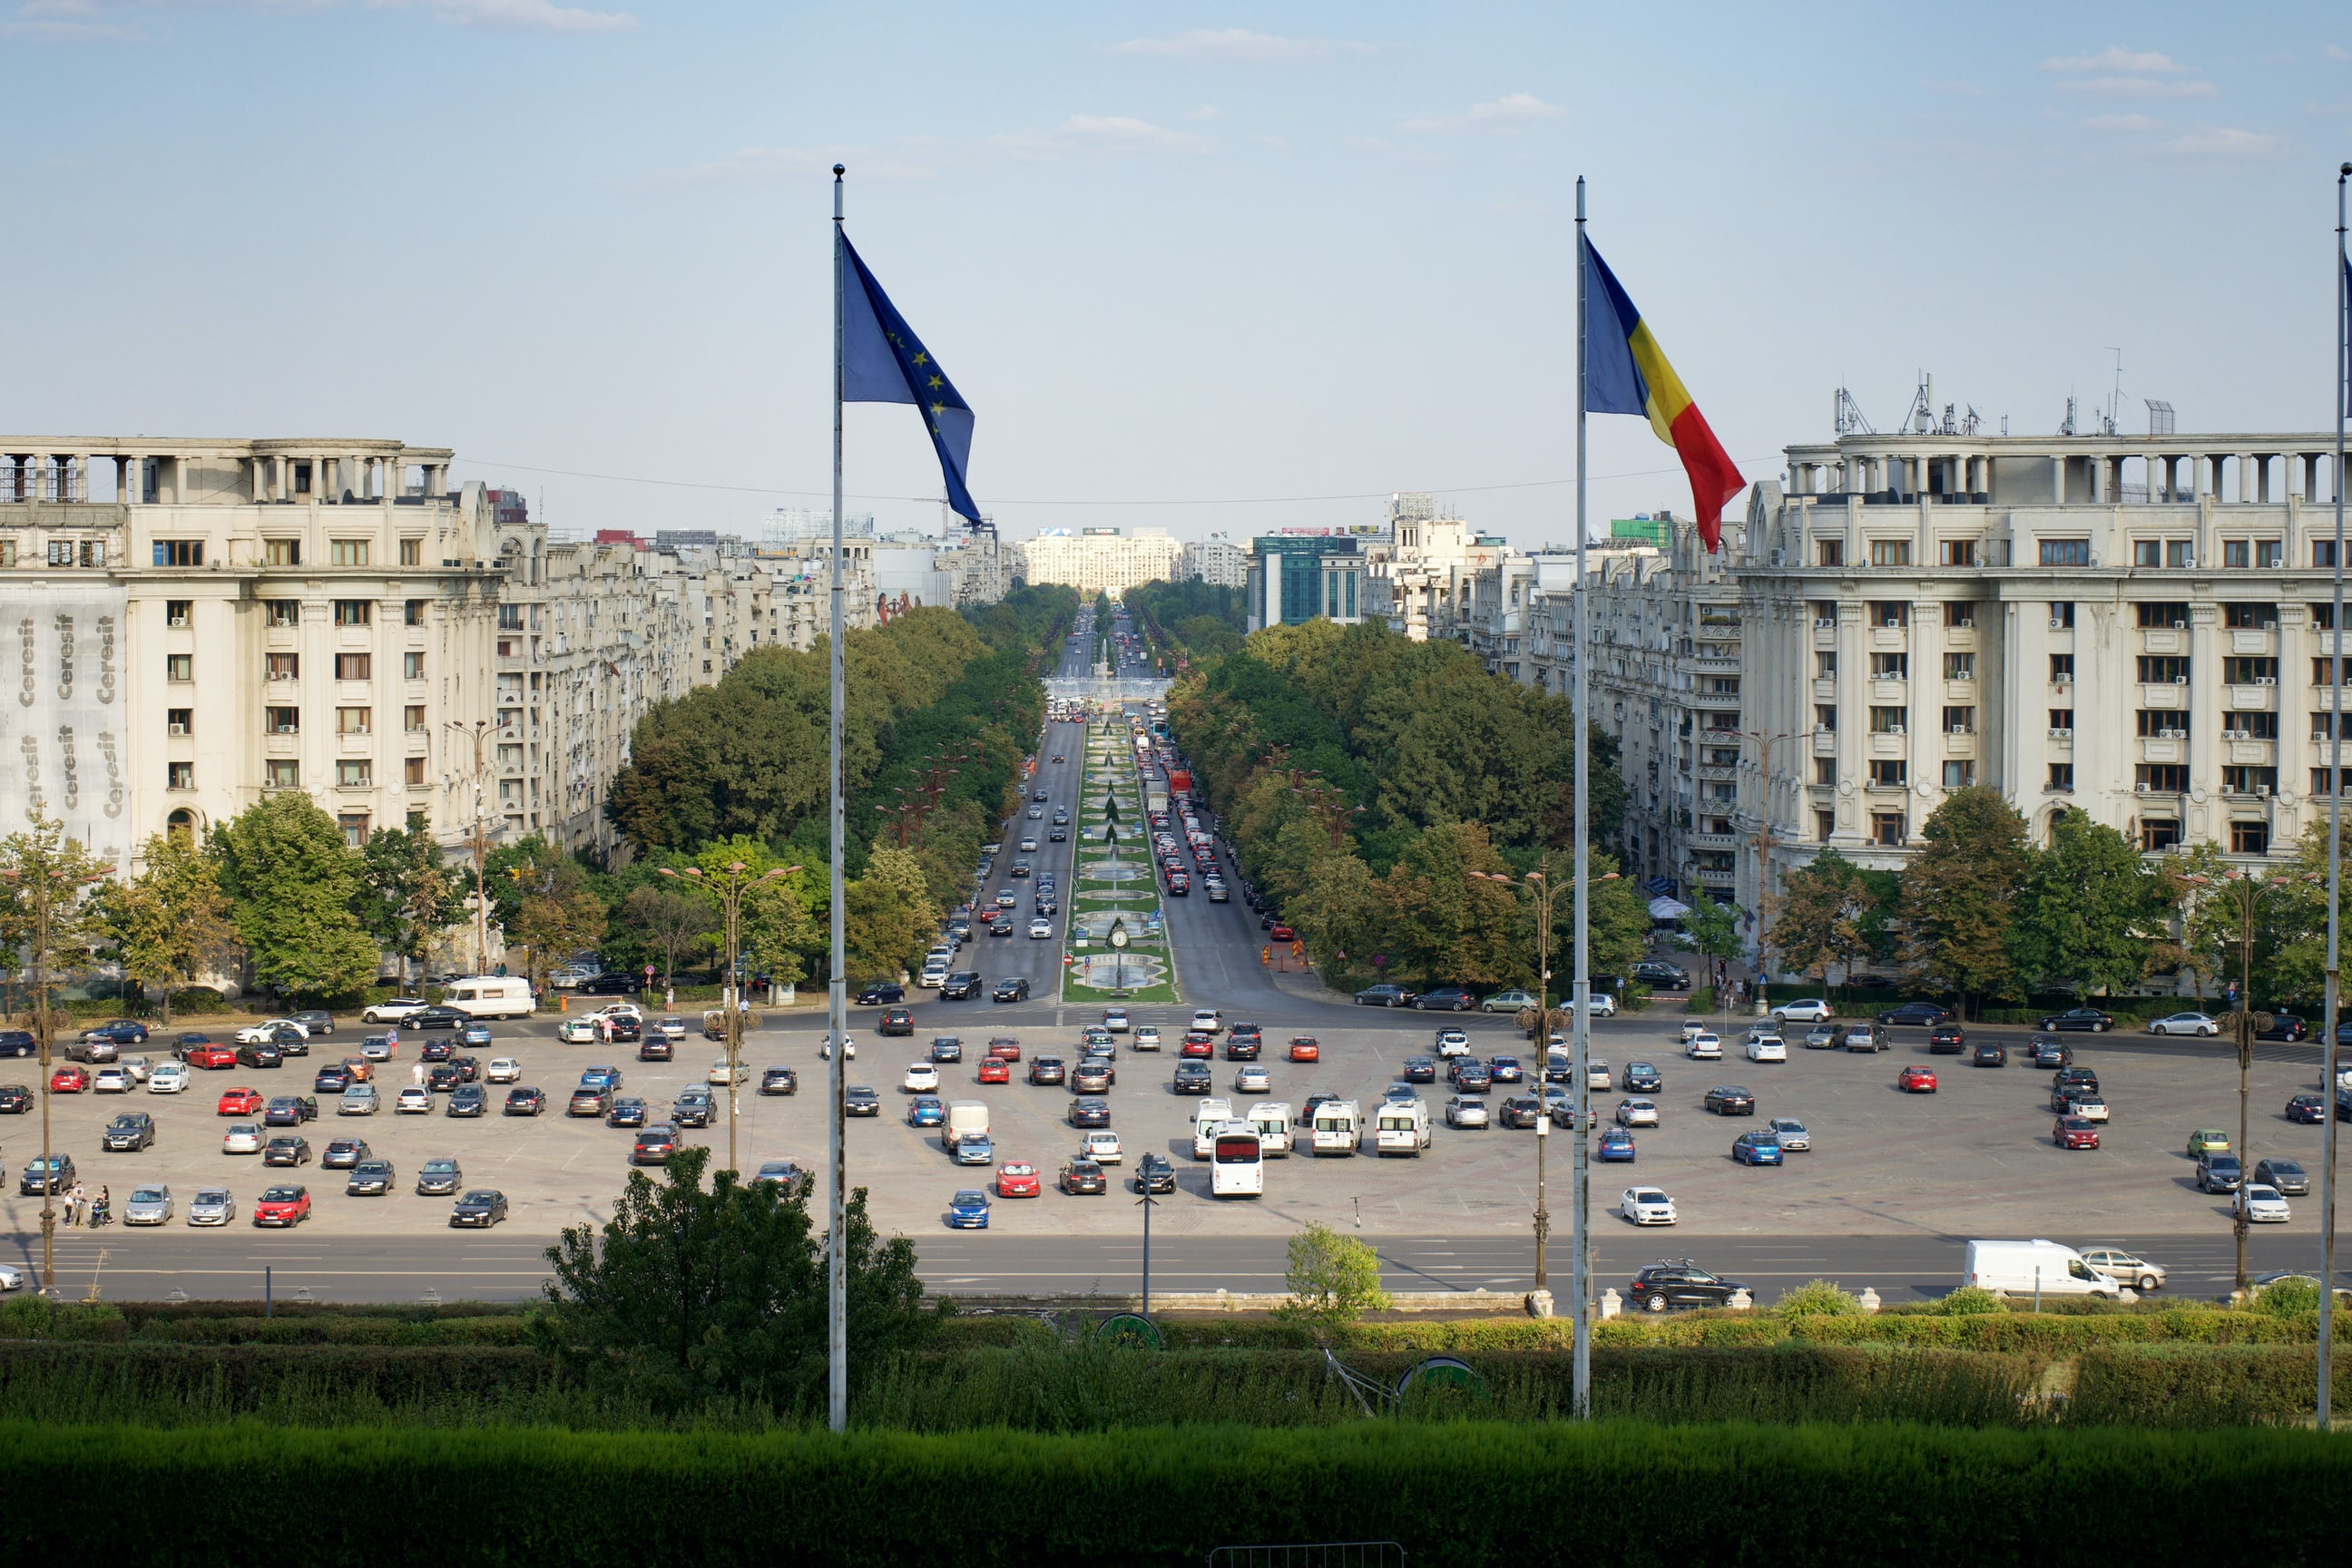Flag: (1585, 240, 1748, 548), (835, 226, 982, 532)
